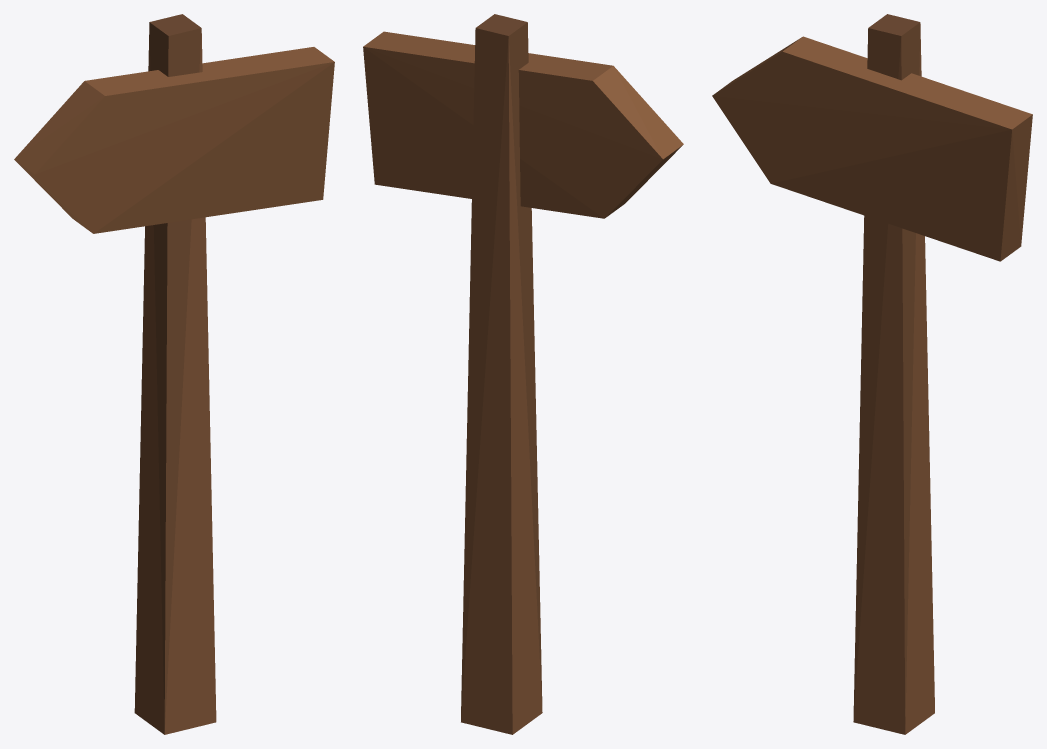
File: kenney_survival_signpost_single.glb
The picture shows the model from 3 angles, left to right: view 1: azimuth 30°, elevation 25°; view 2: azimuth 150°, elevation 25°; view 3: azimuth 330°, elevation 25°; orthographic projection.
Visible parts, largest first — view 1: wood; view 2: wood; view 3: wood.
Boxes of the visible parts, <box> form: wood: <box>14,14,334,734</box>; wood: <box>363,14,683,734</box>; wood: <box>712,14,1032,734</box>.
Size of the model in its own units: 0.2086 by 0.4601 by 0.043.
